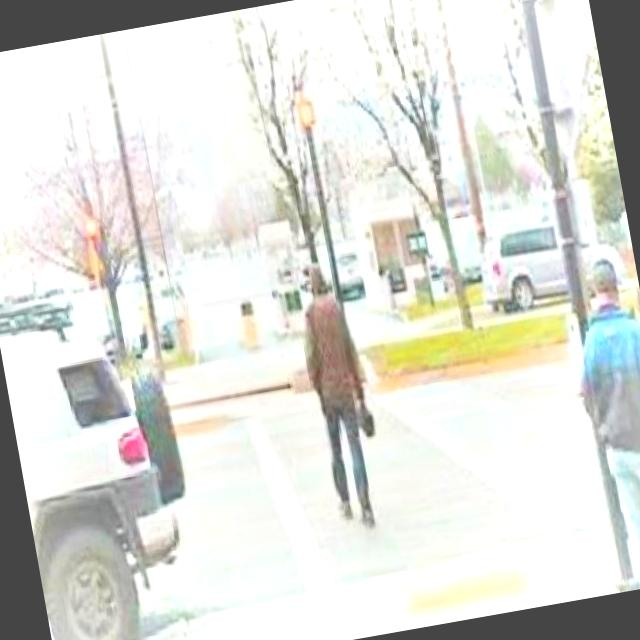Person: (554, 241, 640, 592), (287, 256, 394, 532)
